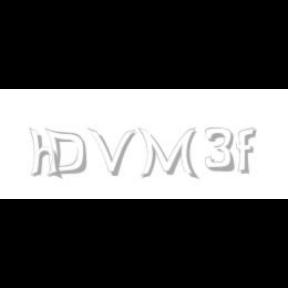3: (204, 128, 235, 172)
D: (44, 128, 86, 178)
M: (138, 128, 197, 180)
V: (88, 128, 136, 176)
f: (236, 128, 260, 174)
h: (30, 128, 64, 180)
